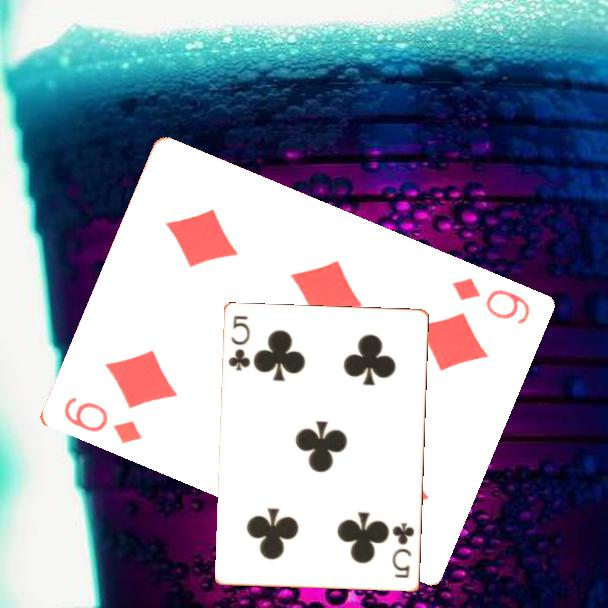c05: (389, 520, 418, 581), (225, 312, 253, 374)
d06: (59, 393, 144, 448), (447, 274, 533, 328)
